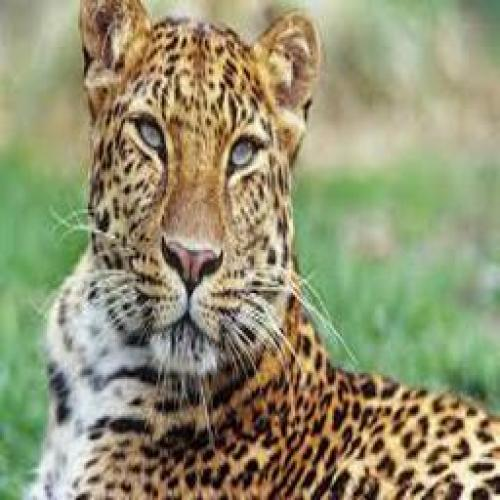amur_leopard-endangered: (64, 0, 378, 500)
